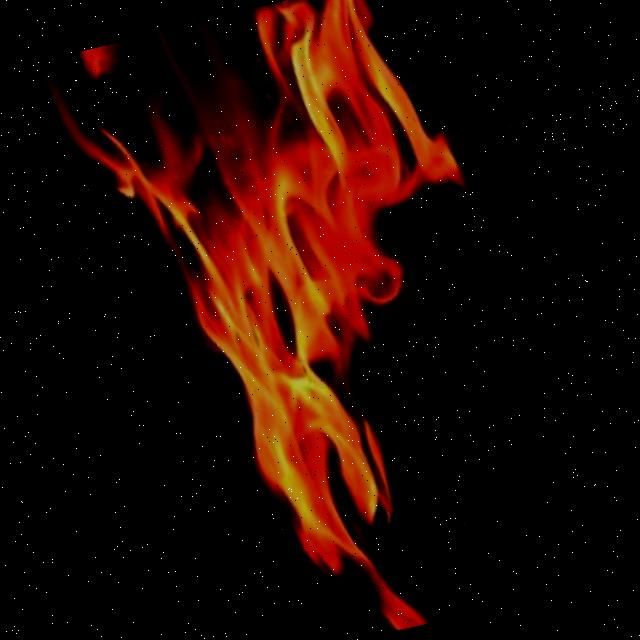fire: (52, 0, 562, 640)
